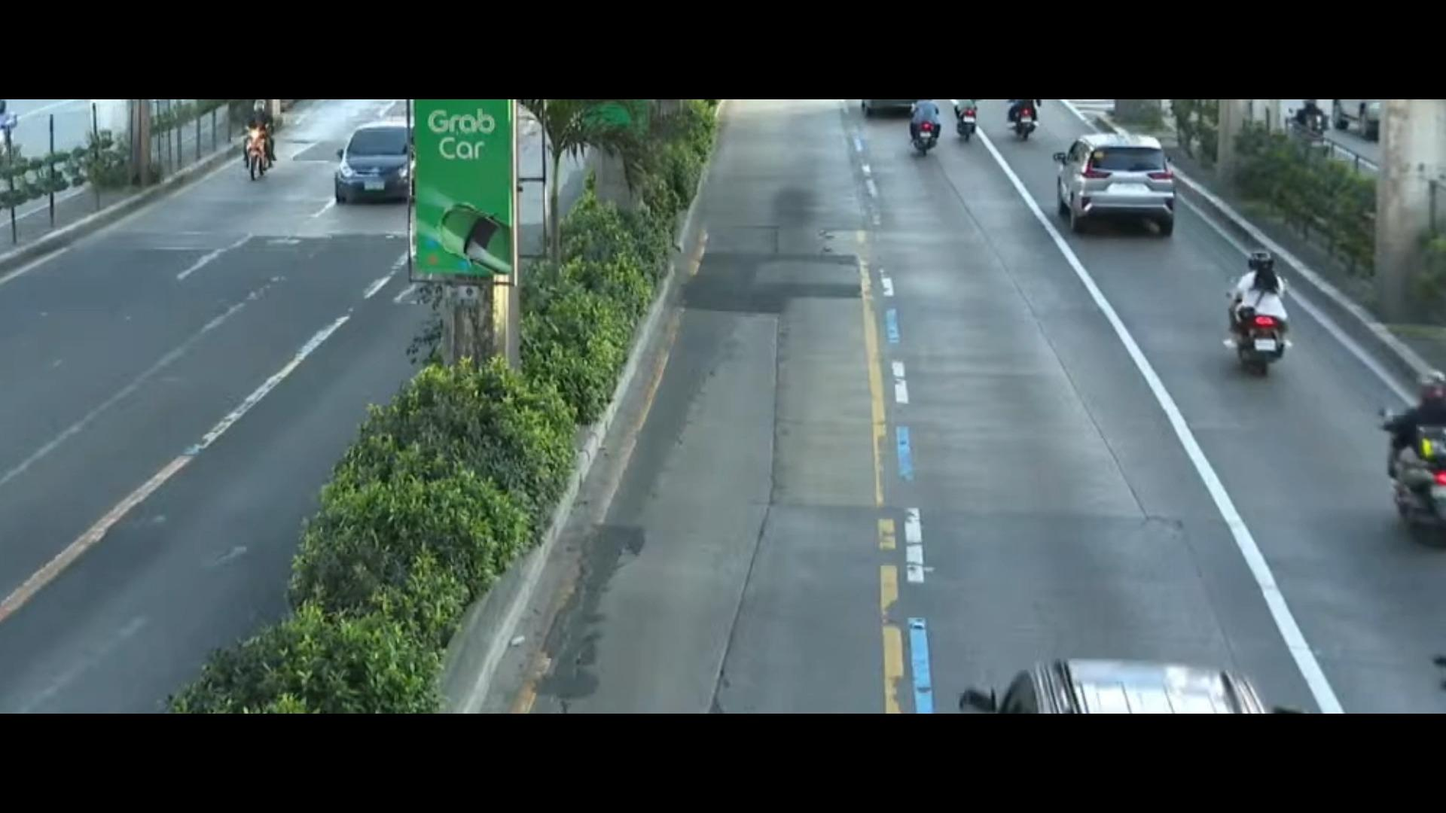Motorcycle: (1219, 234, 1300, 393), (1382, 365, 1446, 557), (226, 93, 300, 194), (938, 96, 1000, 161), (908, 94, 941, 156), (997, 104, 1047, 141)
SUV: (1048, 125, 1199, 260)
Sedan: (322, 111, 416, 197)
